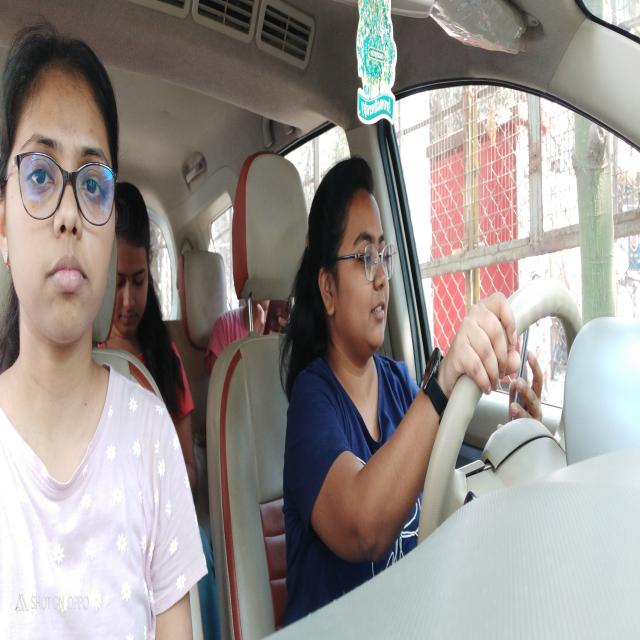mobile: (511, 326, 536, 418)
person: (2, 25, 120, 350), (310, 150, 394, 357), (115, 180, 160, 344)
